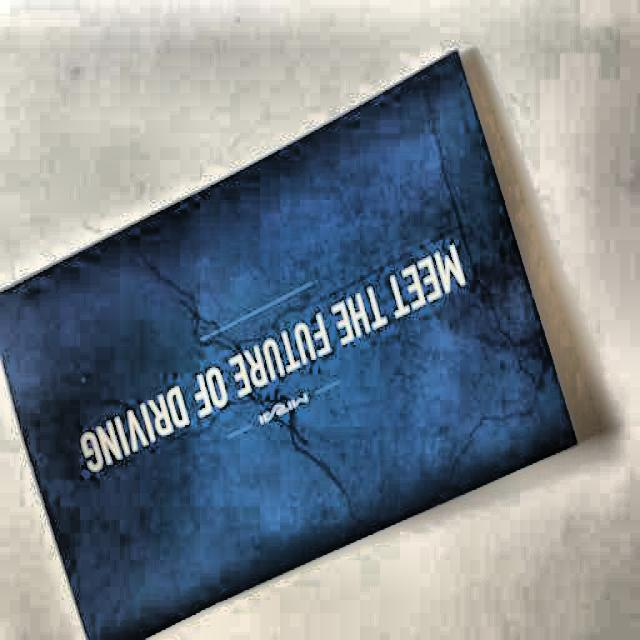paper: (0, 50, 574, 640)
